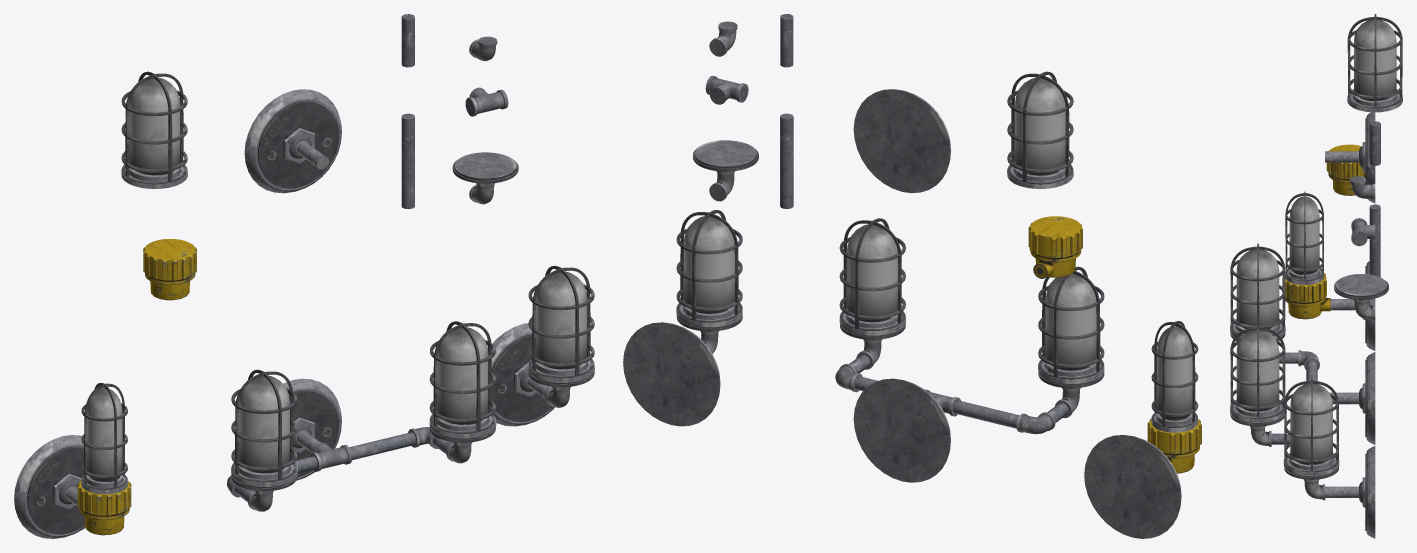
Rendered from industrial_caged_sconce.glb.
The picture shows the model from 3 angles, left to right: view 1: azimuth 30°, elevation 25°; view 2: azimuth 150°, elevation 25°; view 3: azimuth 270°, elevation 25°; orthographic projection. The views are drawn at different scales.
Visible parts, largest first — view 1: industrial_caged_sconce_b; view 2: industrial_caged_sconce_b; view 3: industrial_caged_sconce_b.
Boxes of the visible parts, bbox=[...] form: industrial_caged_sconce_b: bbox=[14, 14, 594, 538]; industrial_caged_sconce_b: bbox=[623, 14, 1201, 538]; industrial_caged_sconce_b: bbox=[1230, 14, 1402, 538].
Bounding box in the file's own units: 1.21 × 0.9128 × 0.3895.
Materials: 1 (1 with a texture image).
